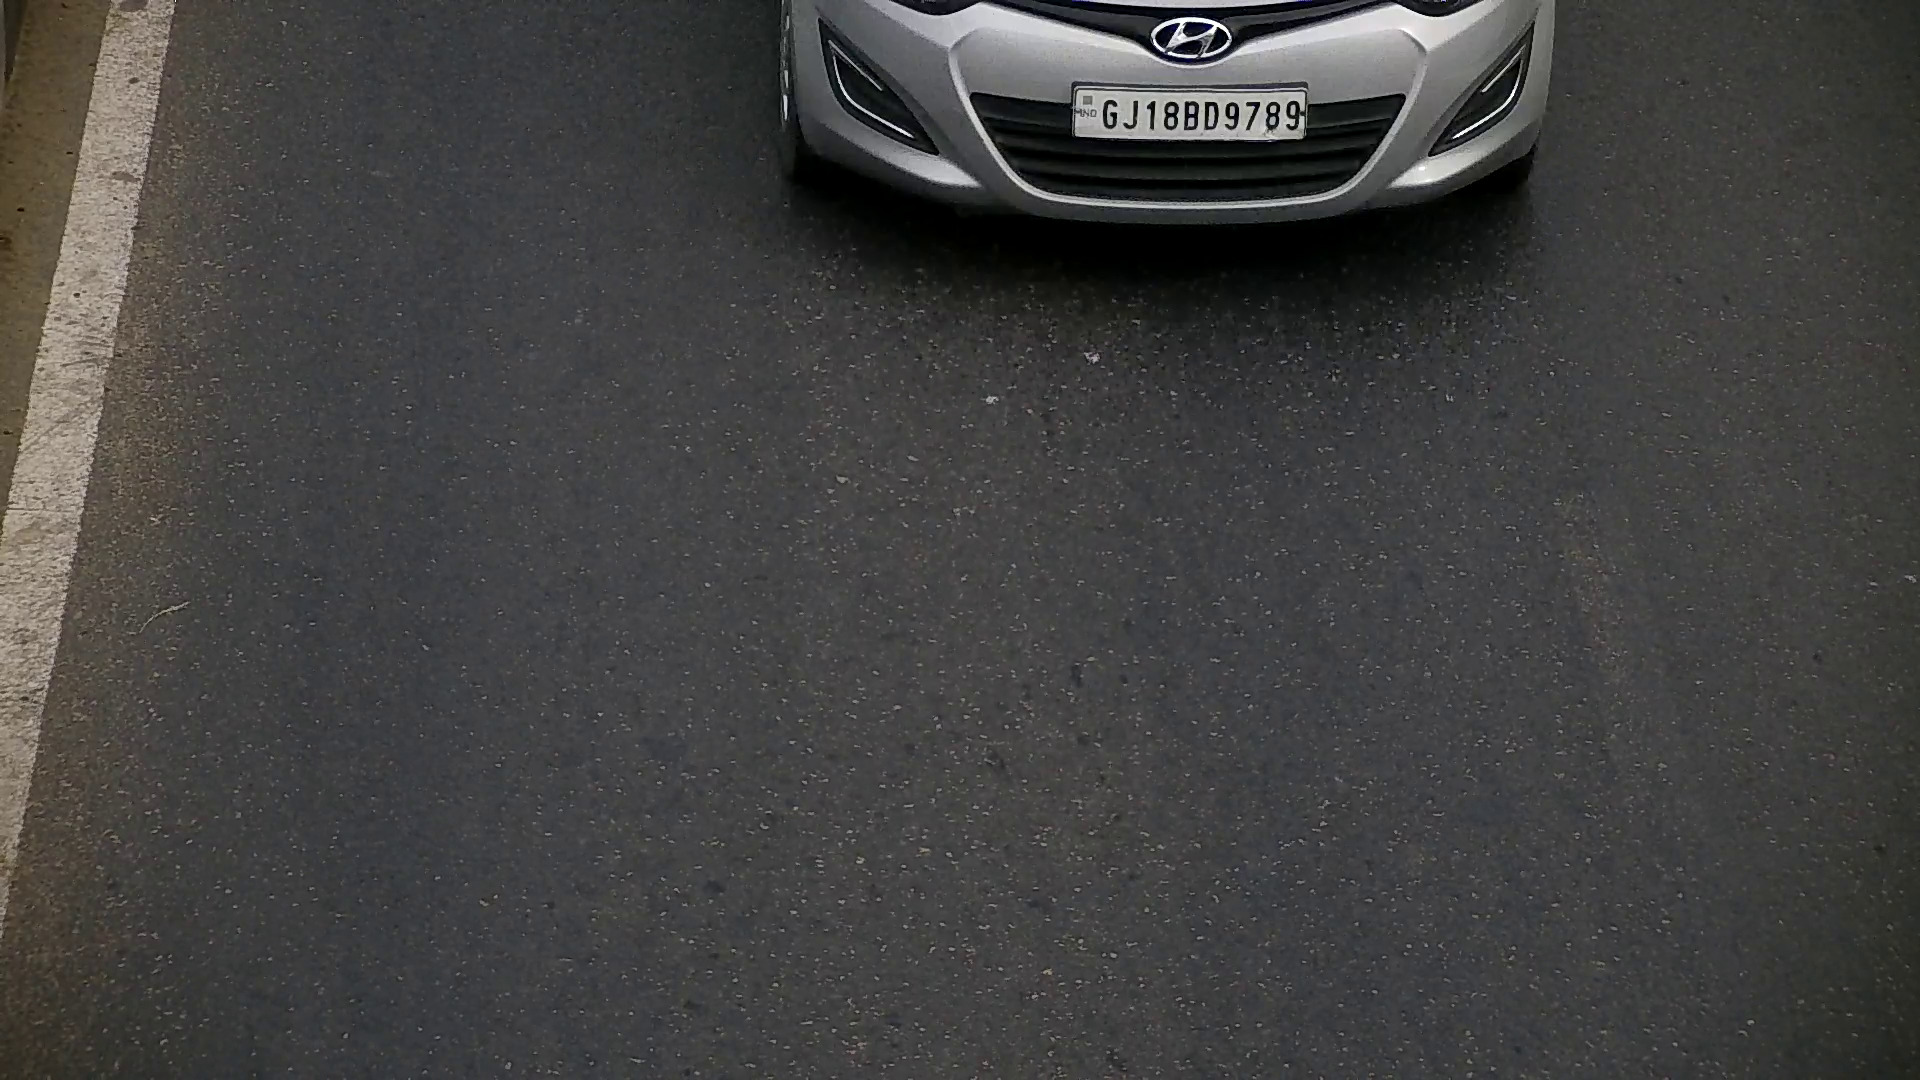numberplate: (1068, 80, 1314, 148)
